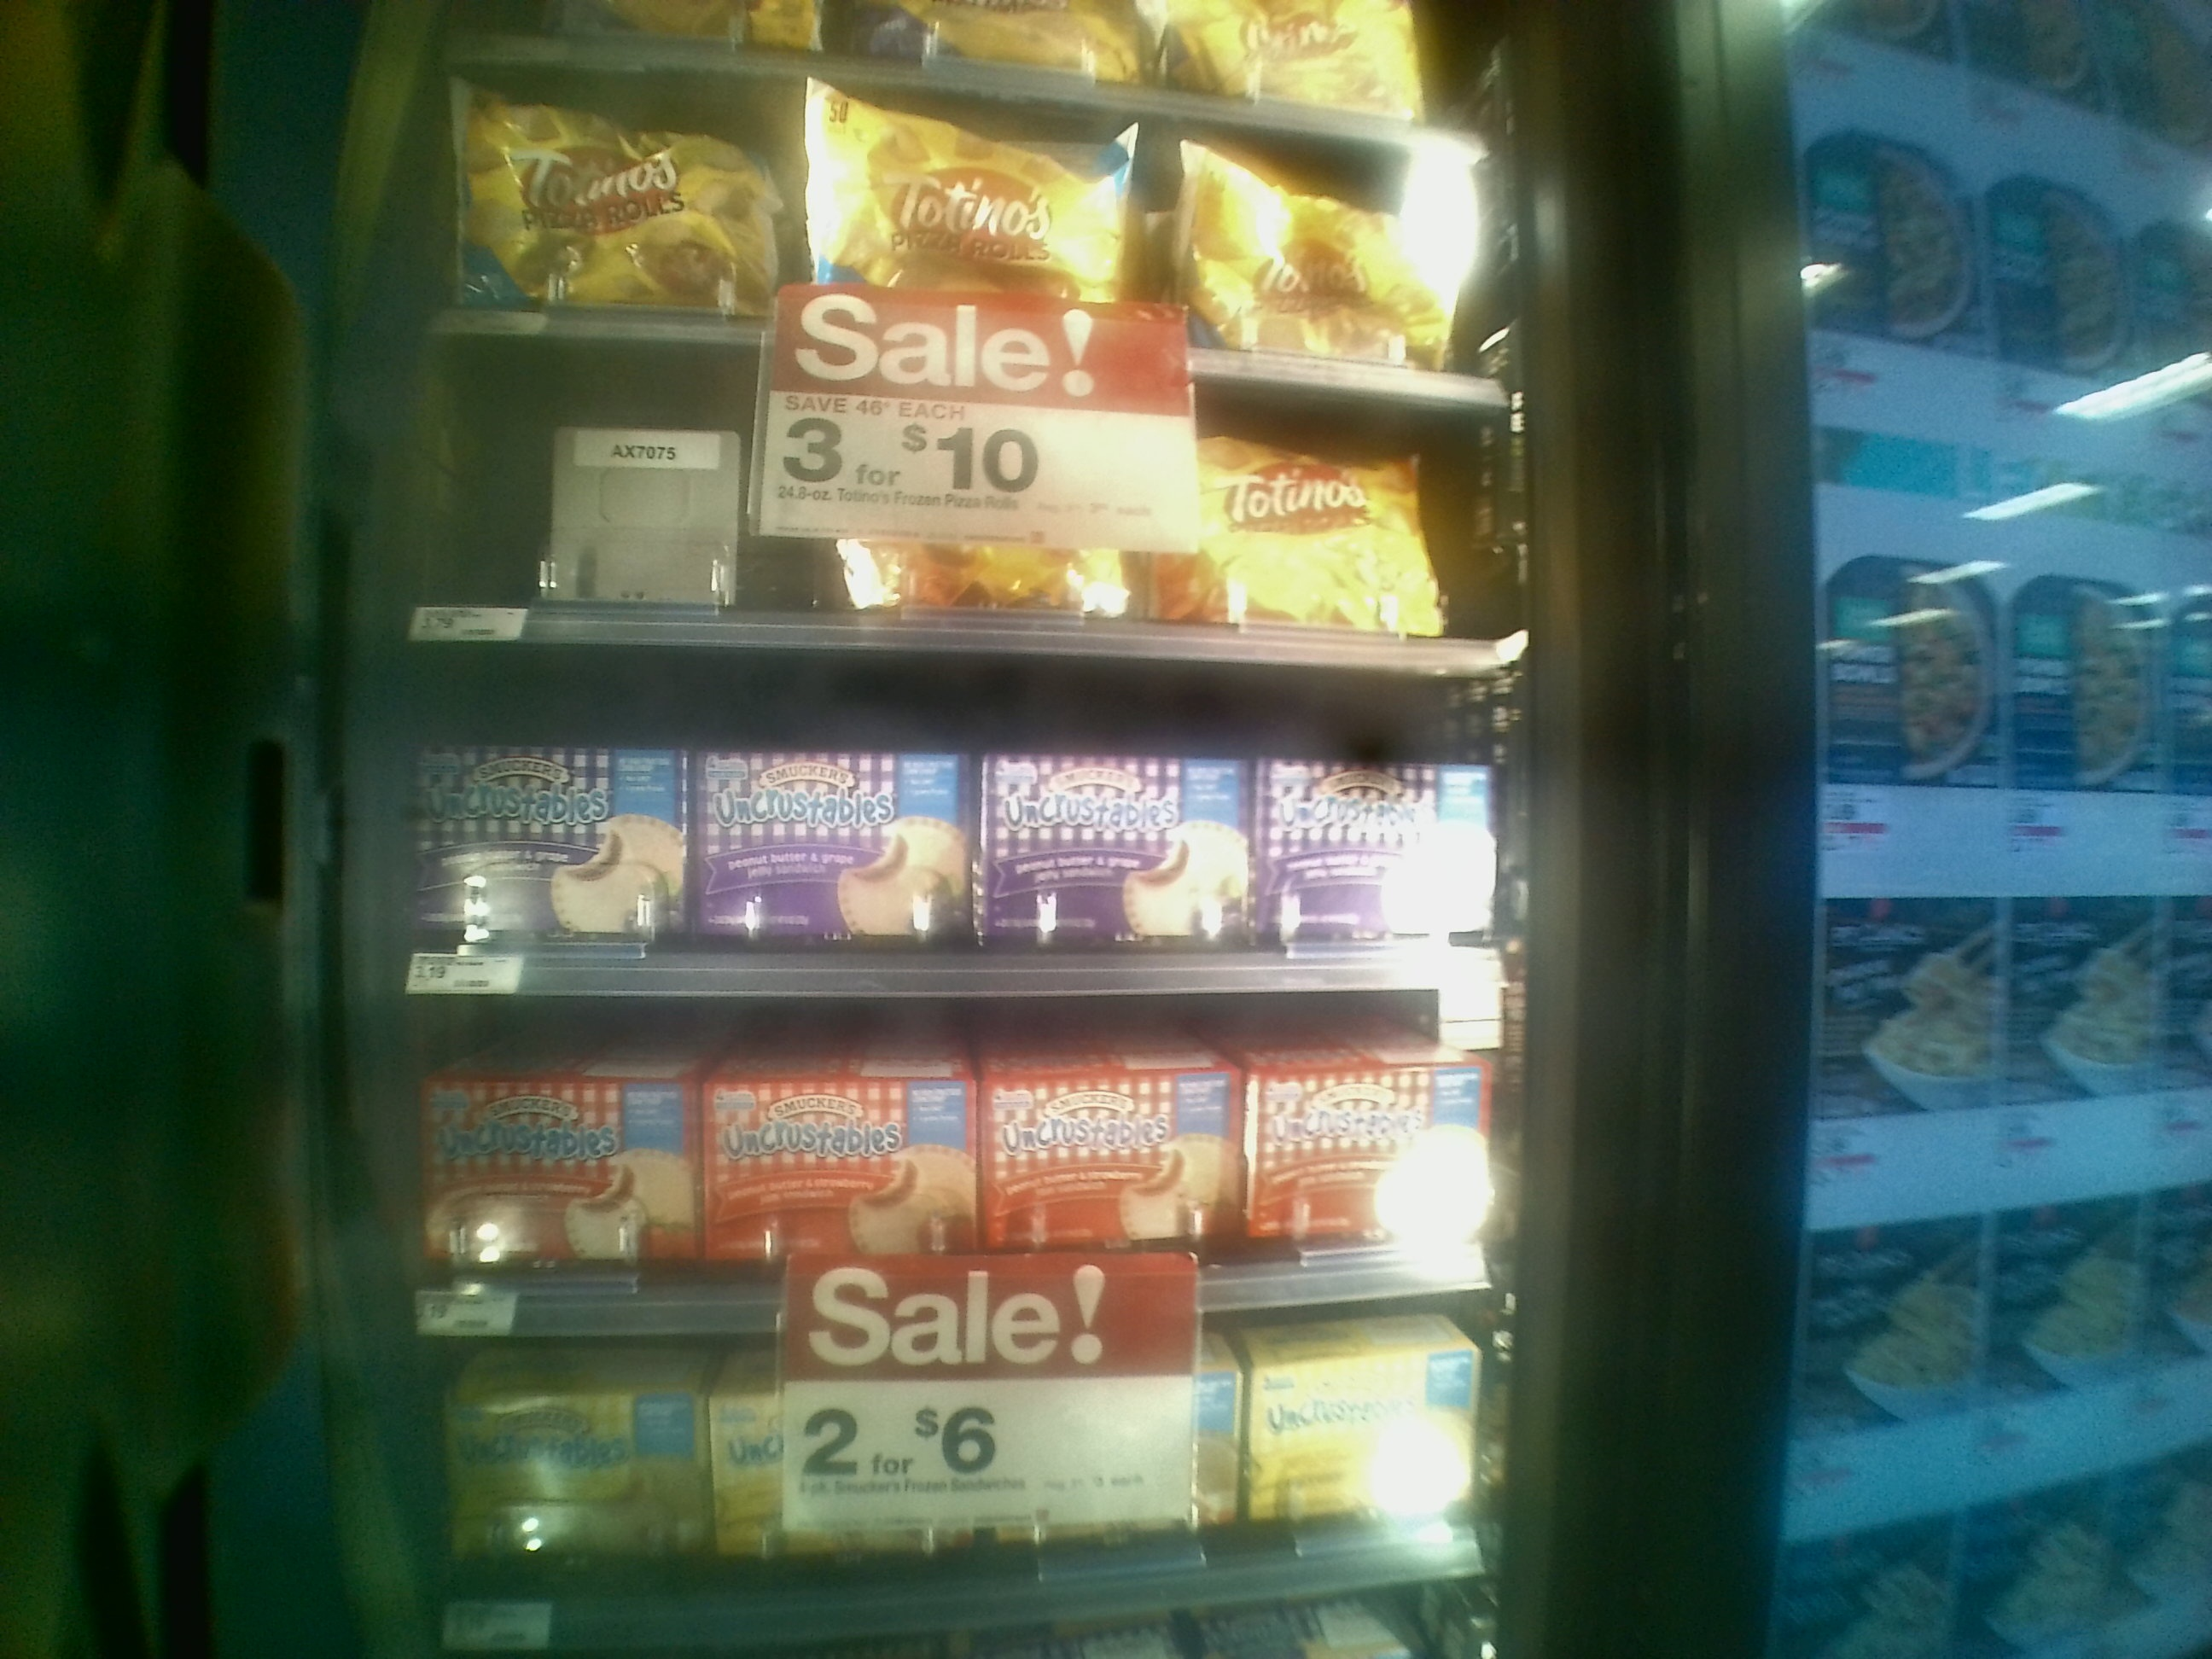shelf: (364, 638, 1531, 1014), (383, 315, 1527, 667), (371, 1011, 1529, 1324)
